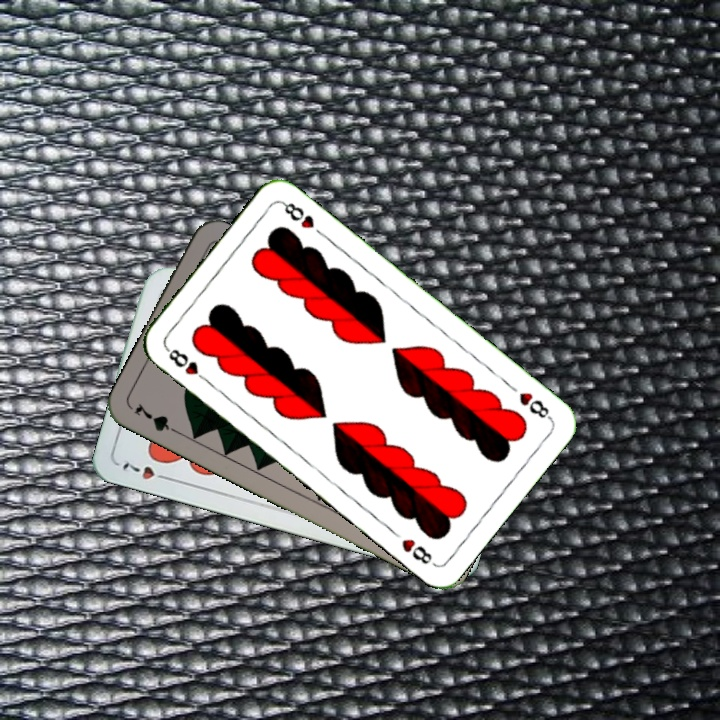G7: (130, 399, 184, 438)
H7: (118, 458, 174, 484)
H8: (161, 343, 212, 386), (515, 388, 554, 422)
